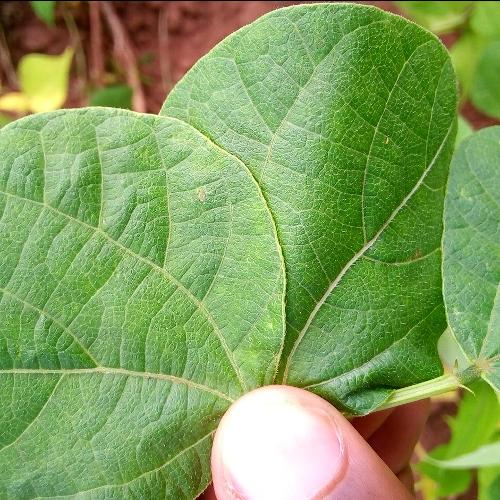sehat: (12, 156, 186, 477)
